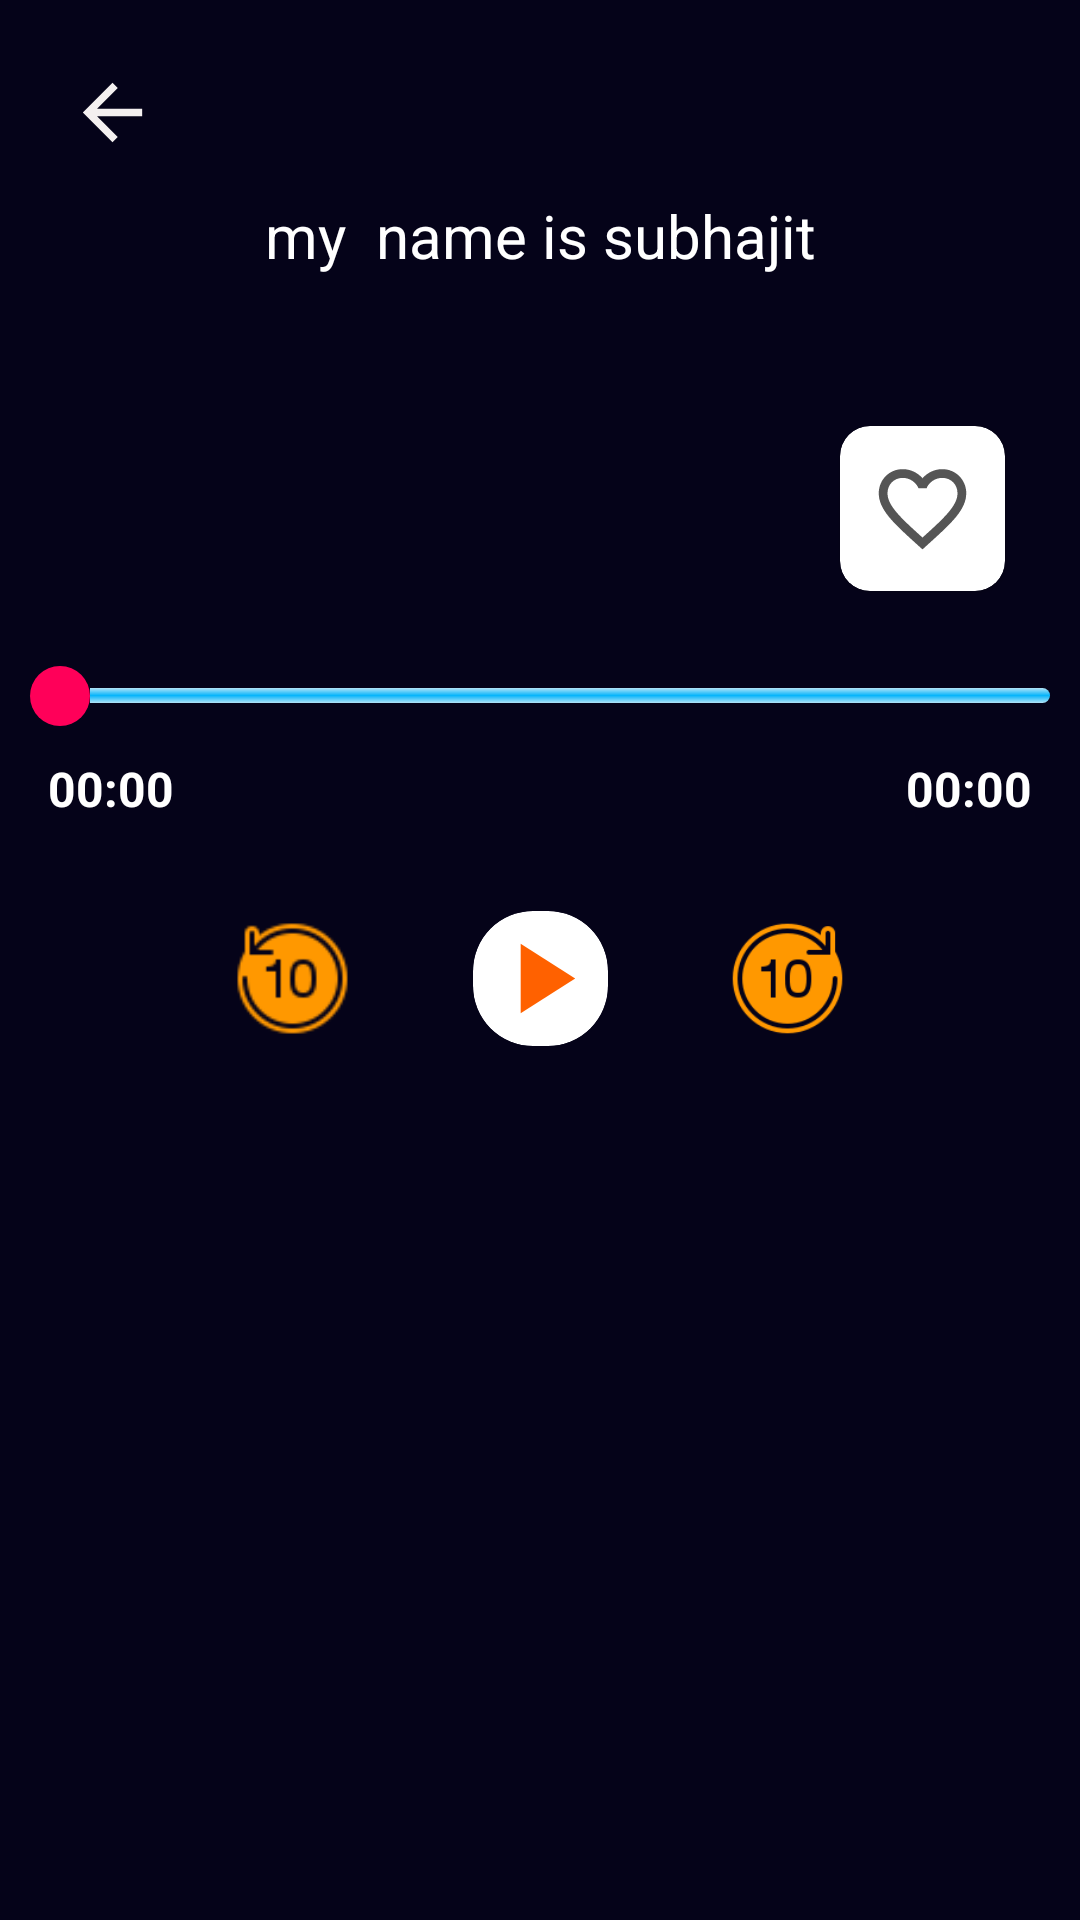

Named icons in this screenshot (1080×1920) and their bounding boxes, bbox=(x1, y1, x2, y2):
arrow back: bbox=(83, 83, 143, 142)
favorite border: bbox=(878, 469, 967, 549)
play arrow: bbox=(473, 911, 608, 1046)
